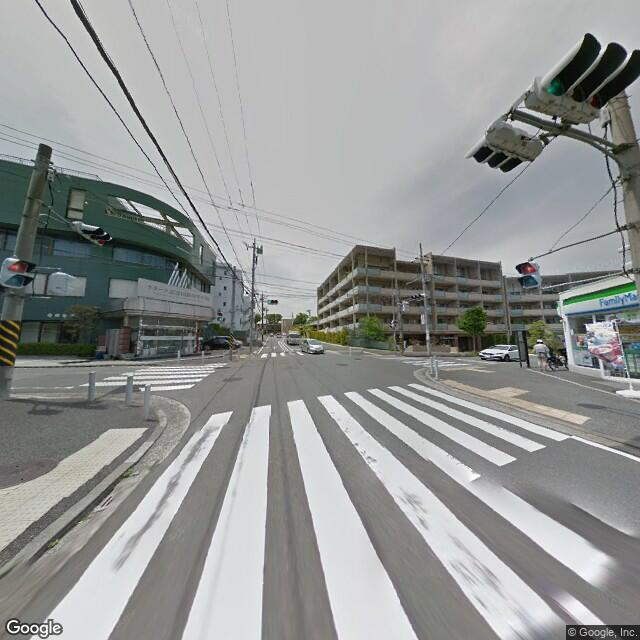family_mart: (559, 274, 637, 324), (596, 287, 639, 312)
